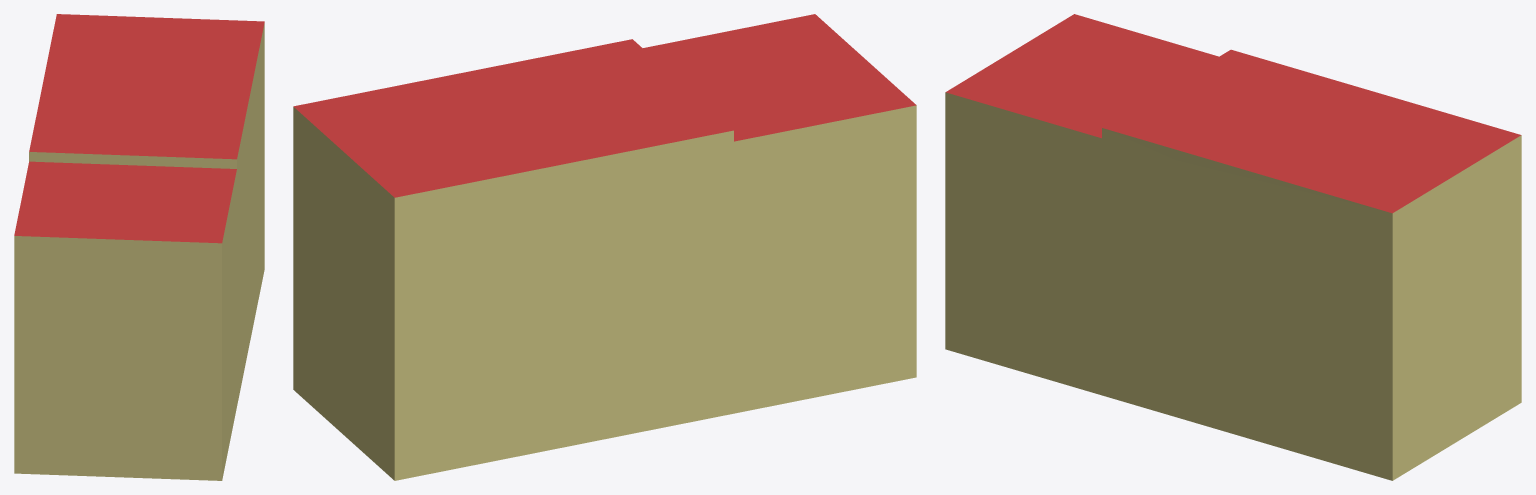
The picture shows the model from 3 angles, left to right: view 1: azimuth 30°, elevation 25°; view 2: azimuth 150°, elevation 25°; view 3: azimuth 270°, elevation 25°; orthographic projection. The views are drawn at different scales.
Size of the model in its own units: 9.46 by 10.97 by 5.62.
